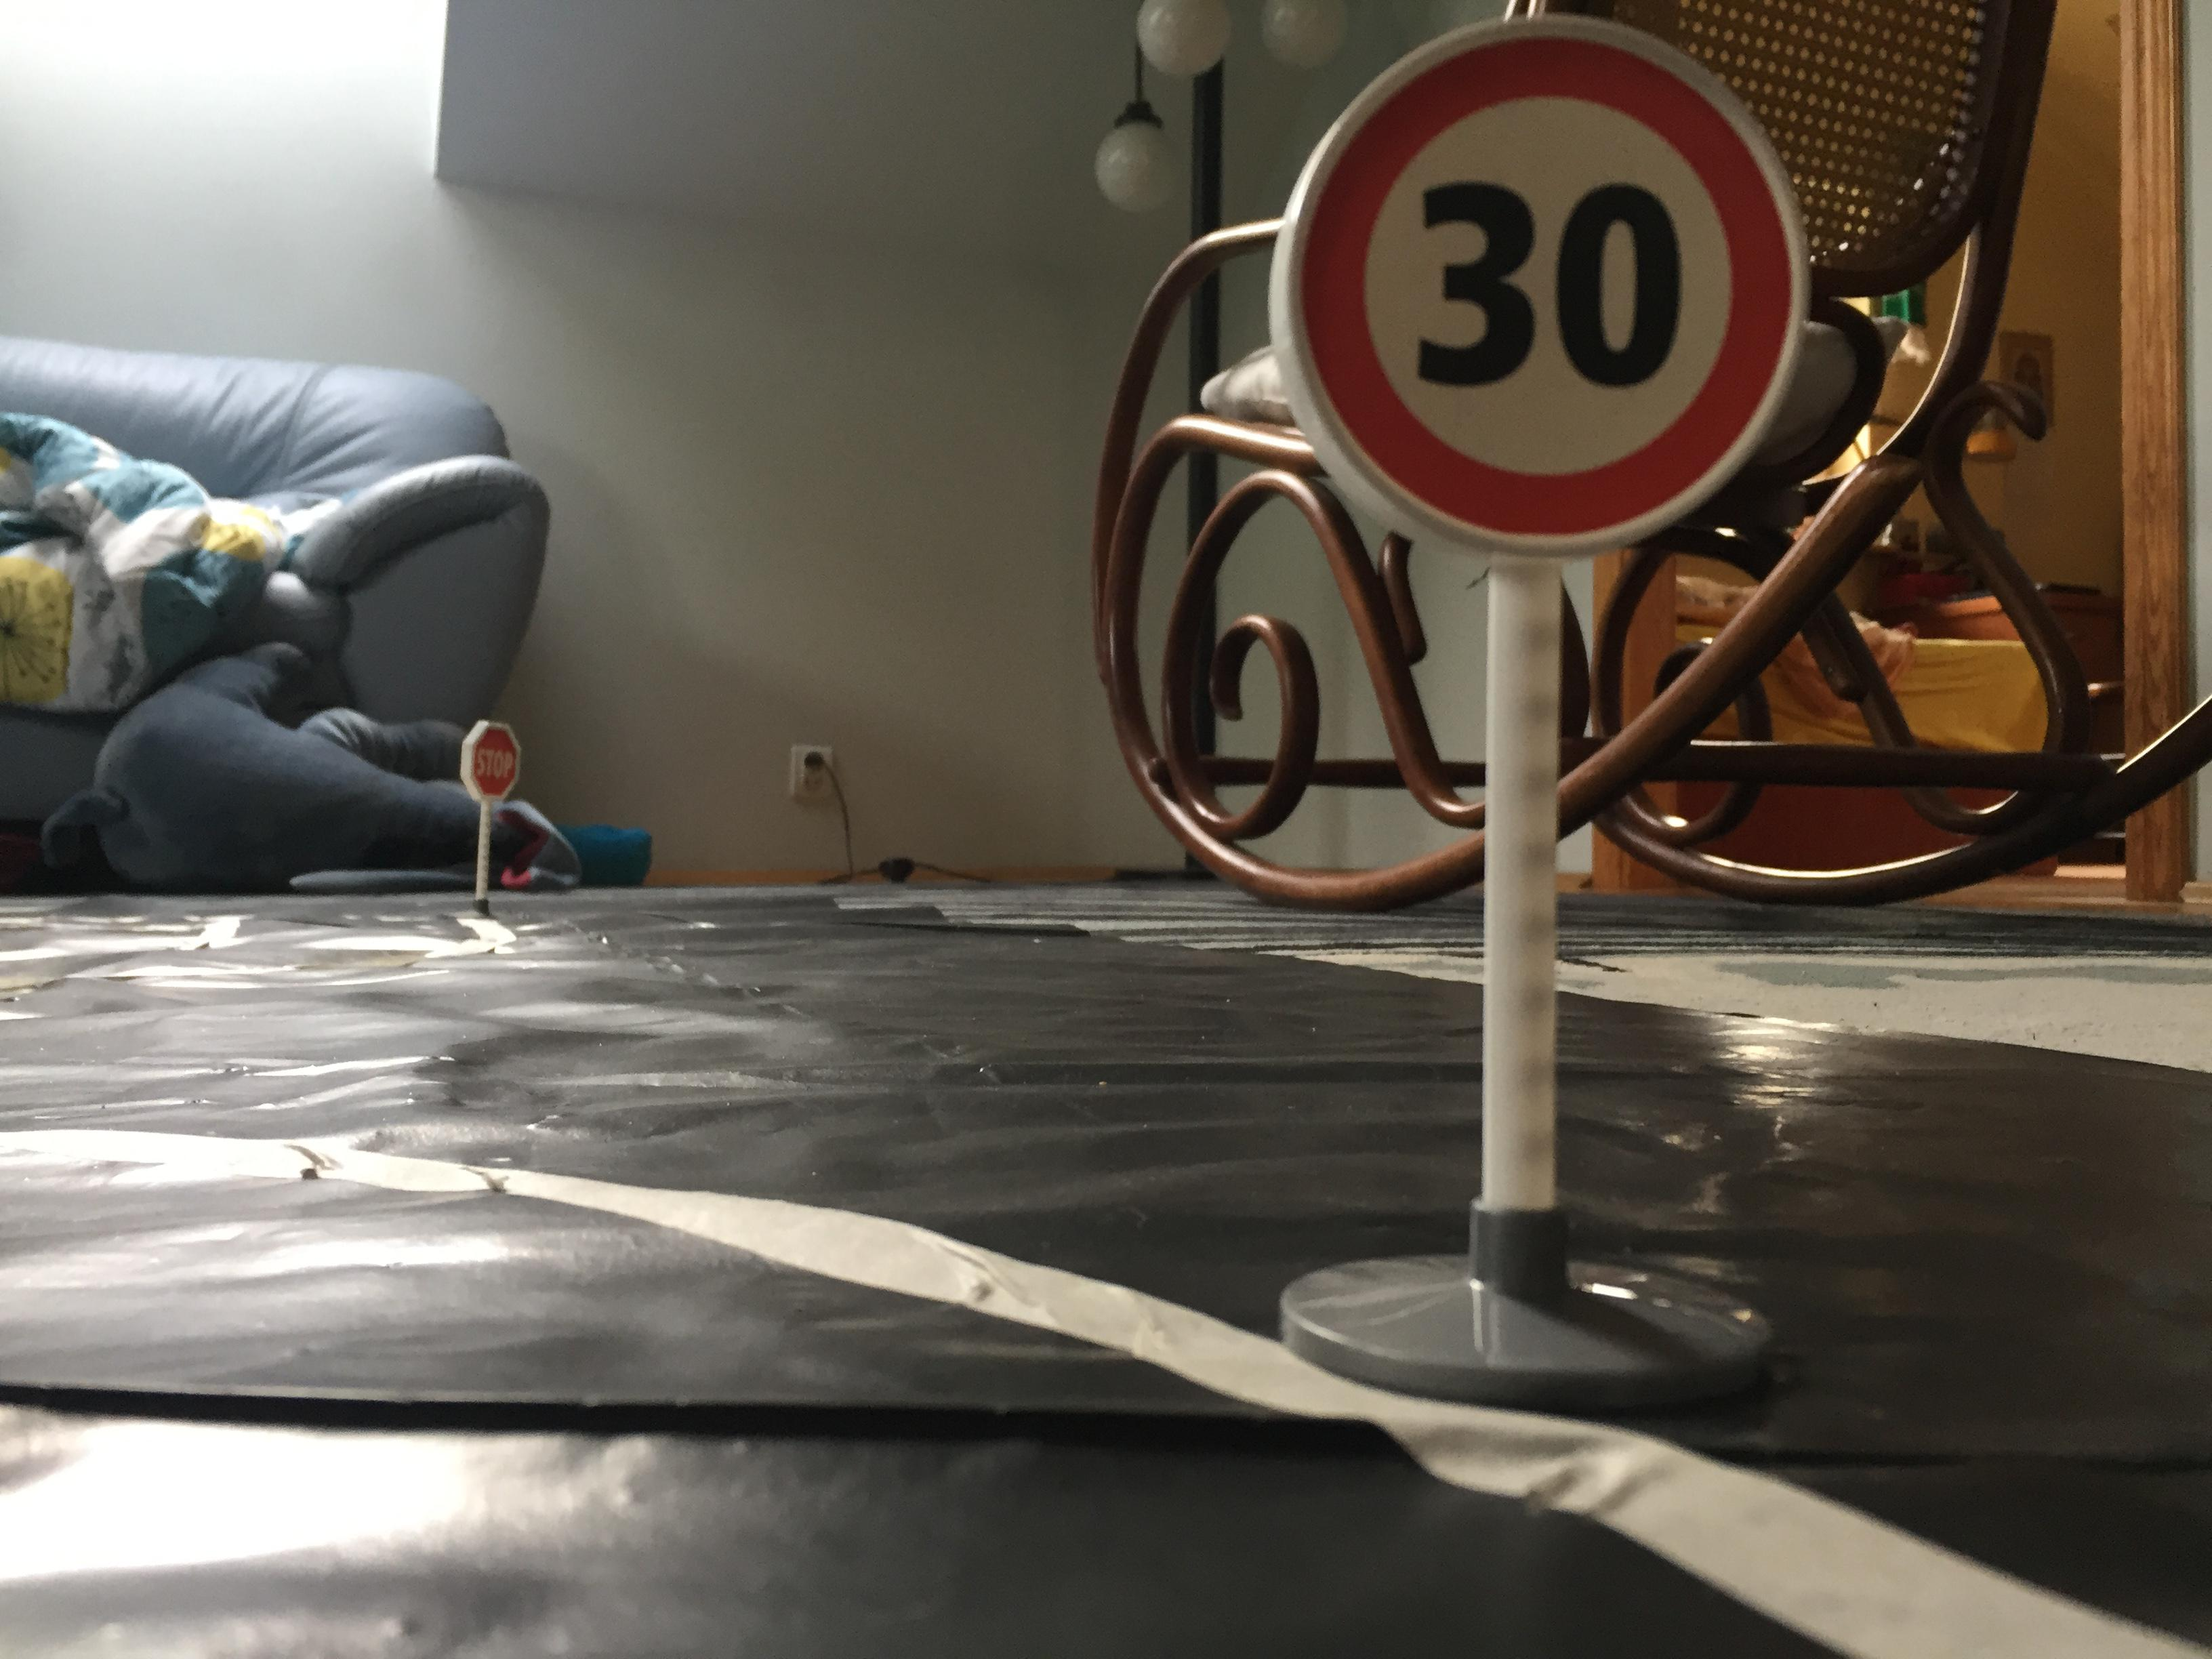speed: (1259, 0, 1831, 573)
